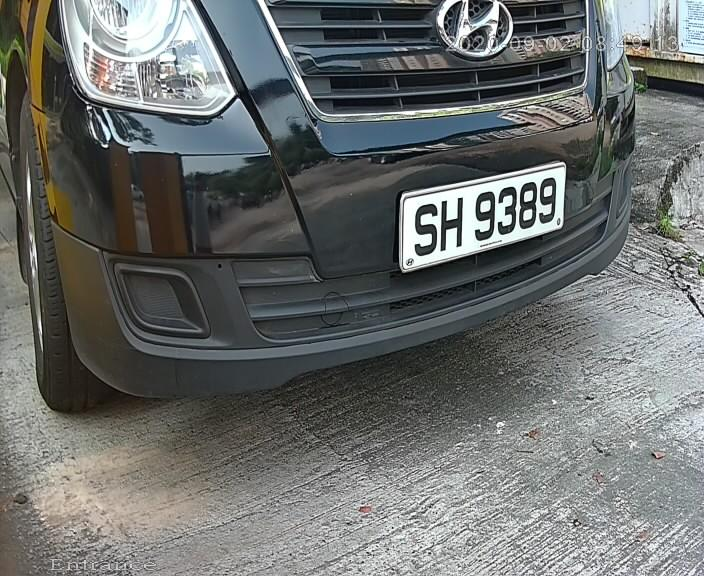Car: (26, 1, 654, 427)
License Plate: (397, 160, 573, 276)
